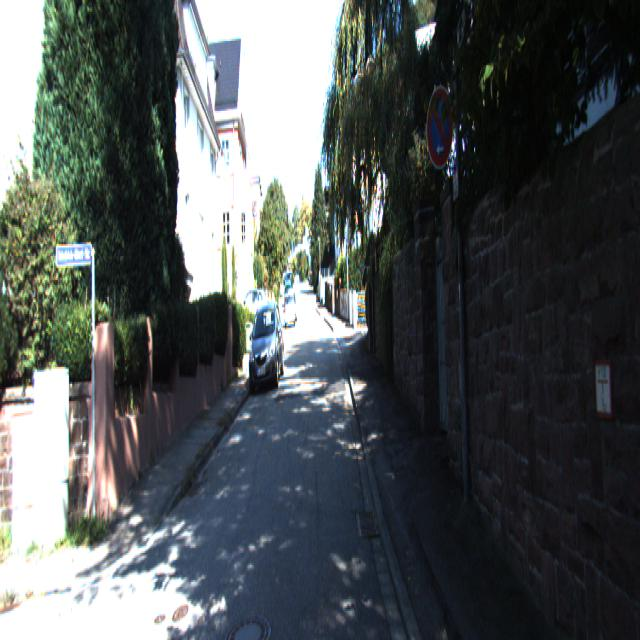Car: (247, 307, 285, 393), (284, 291, 296, 329)
